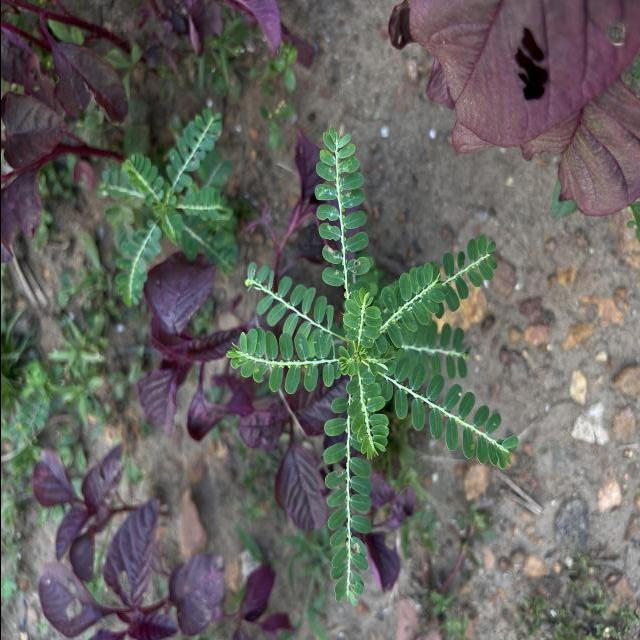Phyllanthus niruri: (374, 356, 520, 474), (320, 394, 374, 611), (310, 128, 372, 292), (221, 324, 343, 396), (240, 260, 334, 337), (378, 262, 448, 352), (343, 370, 390, 464)
